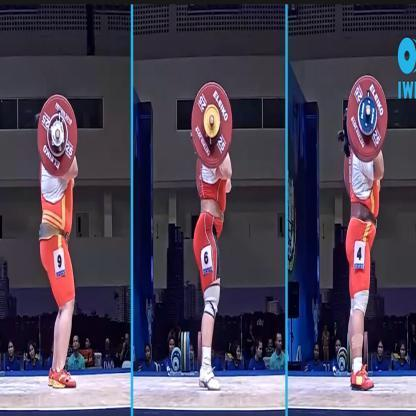barbell: (190, 81, 234, 170), (346, 75, 389, 162), (37, 94, 79, 178)
